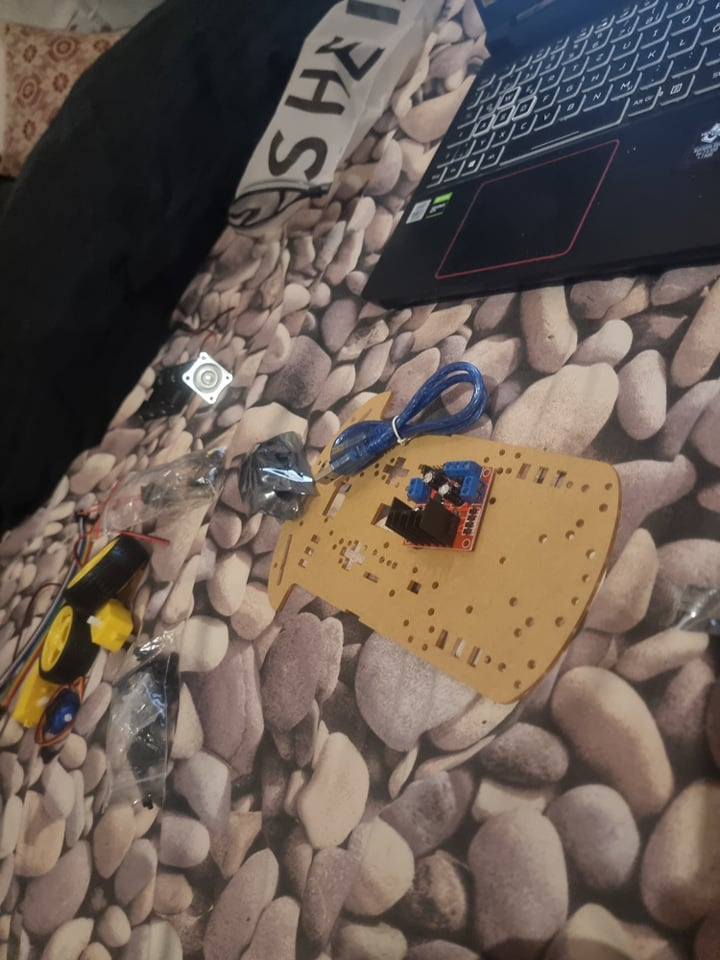BATTERY BOX: (132, 361, 187, 425)
MOTOR: (382, 461, 499, 557)
